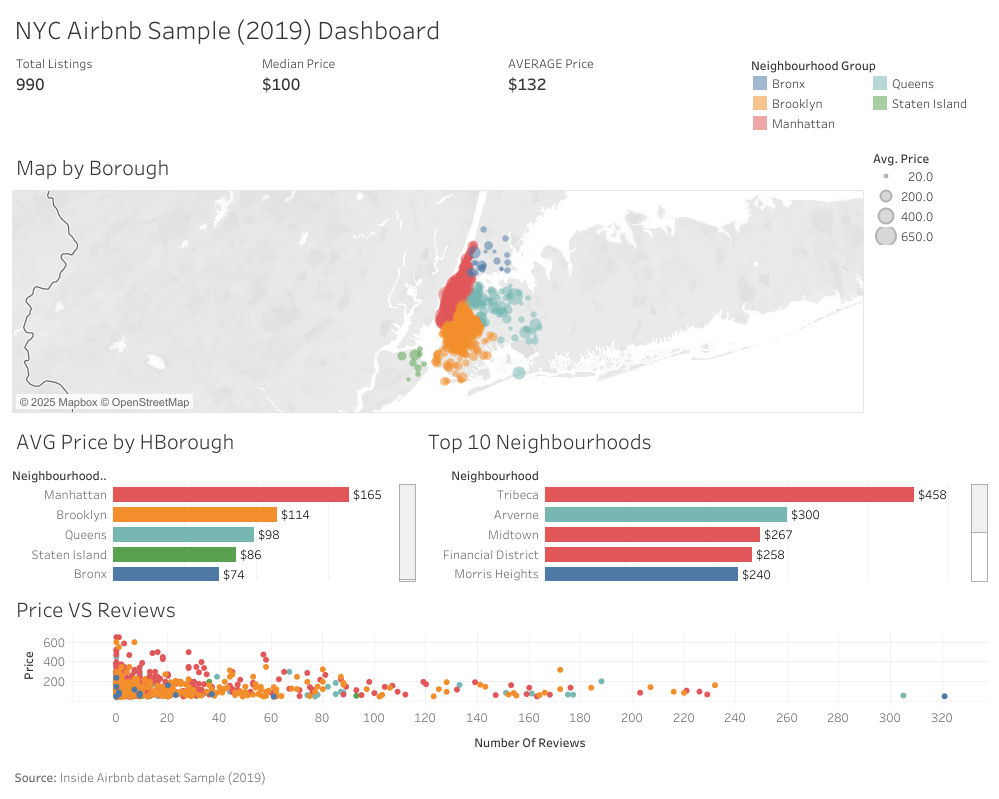

Layout of this report page (visuals, bound fields, positions):
{"tool":"tableau","page":{"name":"Dashboard 2","canvas":[1000,800],"ordinal":0},"visuals":[{"type":"title","box":[8,8,984,42]},{"type":"worksheet","title":"total listings","mark":"Automatic","box":[8,50,246,92.7]},{"type":"worksheet","title":"Median Price","mark":"Automatic","box":[254,50,246,92.7]},{"type":"worksheet","title":"Avg Price","mark":"Automatic","box":[500,50,246,92.7]},{"type":"legend","title":"Map by Borough","param":"[federated.1vdo6hb1nxyqne1403ond18un7di].[none:neighbourhood_group:nk]","box":[746,50,246,92.7]},{"type":"worksheet","title":"Map by Borough","mark":"Automatic","rows":["latitude"],"cols":["longitude"],"box":[8,142.7,860,274.3]},{"type":"legend","title":"Map by Borough","param":"[federated.1vdo6hb1nxyqne1403ond18un7di].[avg:price:qk]","box":[868,142.7,124,274.3]},{"type":"worksheet","title":"AVG Price by HBorough","mark":"Automatic","rows":["neighbourhood_group"],"cols":["price"],"box":[8,417,412,168]},{"type":"worksheet","title":"Top 10 Neighbourhoods","mark":"Automatic","rows":["neighbourhood"],"cols":["price"],"box":[420,417,572,168]},{"type":"worksheet","title":"Price VS Reviews","mark":"Automatic","rows":["price"],"cols":["number_of_reviews"],"box":[8,585,984,176.7]},{"type":"text","box":[8,761.7,984,30.3]}]}

Visuals, with their boxes in screenshot pixels (x1, y1, x2, y2), scaled from the page's 1000x800 canvas onto the 999x799 screenshot:
title: (left=8, top=8, right=991, bottom=50)
"total listings" worksheet: (left=8, top=50, right=254, bottom=143)
"Median Price" worksheet: (left=254, top=50, right=500, bottom=143)
"Avg Price" worksheet: (left=500, top=50, right=745, bottom=143)
"Map by Borough" legend: (left=745, top=50, right=991, bottom=143)
"Map by Borough" worksheet: (left=8, top=143, right=867, bottom=416)
"Map by Borough" legend: (left=867, top=143, right=991, bottom=416)
"AVG Price by HBorough" worksheet: (left=8, top=416, right=420, bottom=584)
"Top 10 Neighbourhoods" worksheet: (left=420, top=416, right=991, bottom=584)
"Price VS Reviews" worksheet: (left=8, top=584, right=991, bottom=761)
text: (left=8, top=761, right=991, bottom=791)
